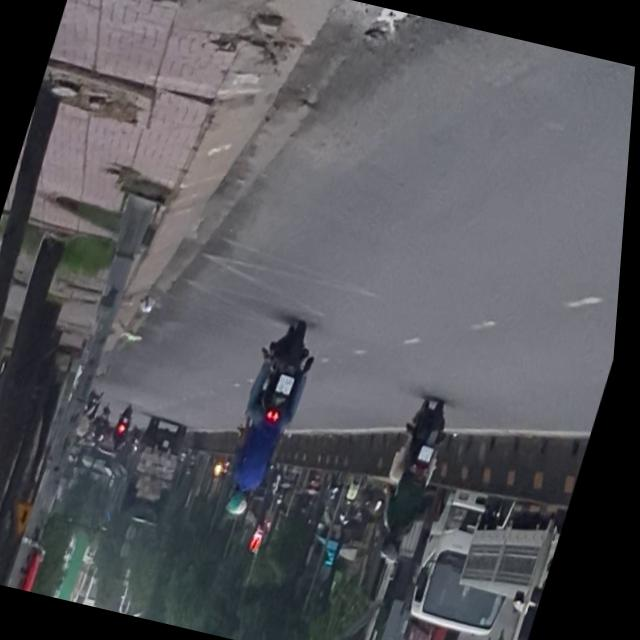helmet: (230, 482, 255, 514)
licenseplate: (214, 312, 331, 525)
nohelmet: (280, 372, 301, 394)
